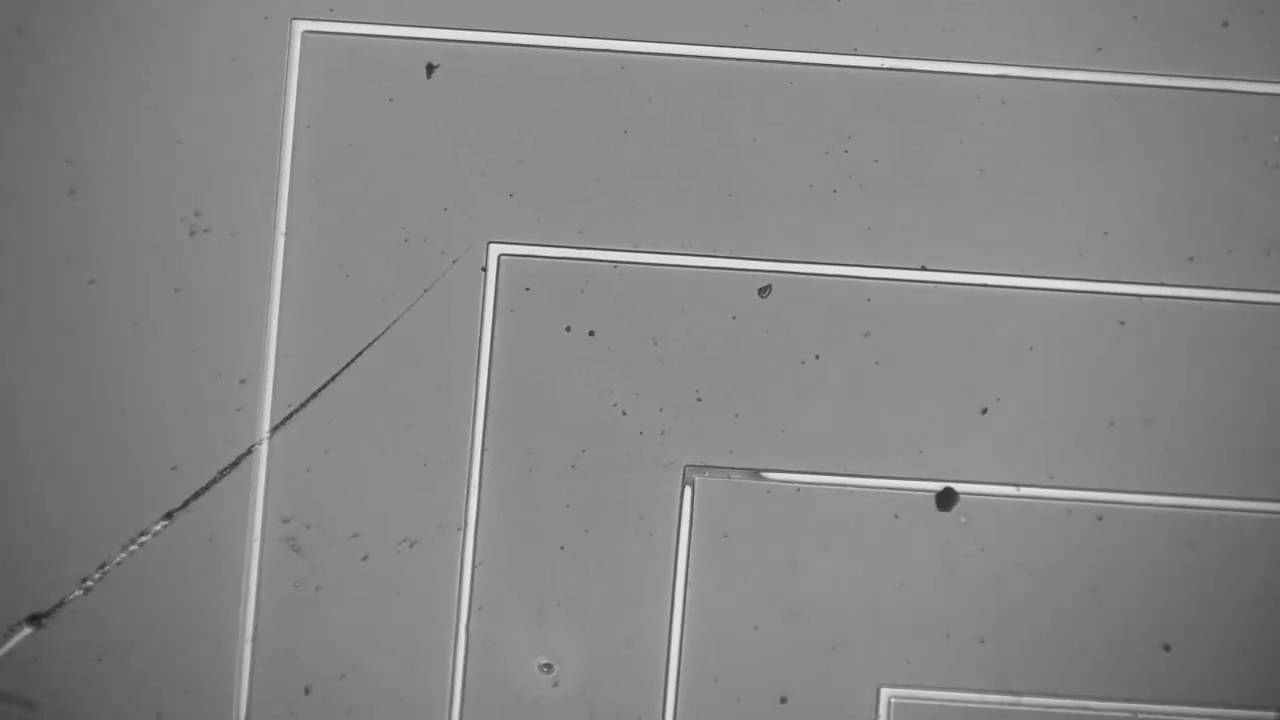gray_line: (663, 457, 787, 490), (673, 448, 707, 505)
scratch: (1, 245, 477, 655)
stains_enbedded: (918, 467, 981, 526)
